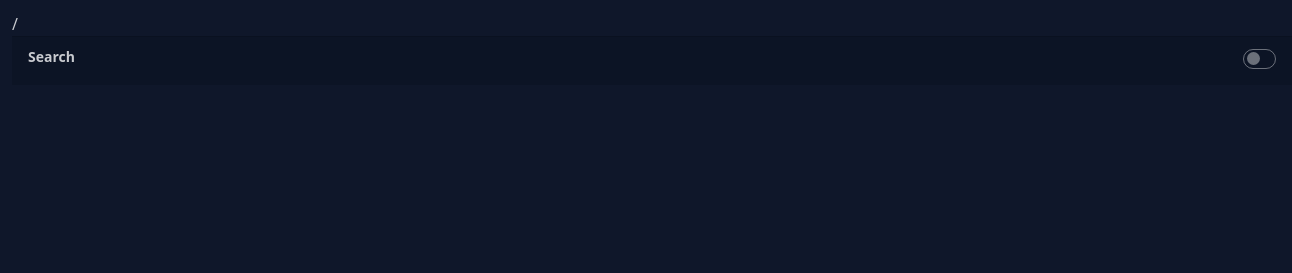
Test: NavSearchSection › runs a command from its new home — nav logs moves the page
Click the checkbox labelled "Search" at (1260, 59), box left=1243, top=49, right=1276, bottom=69
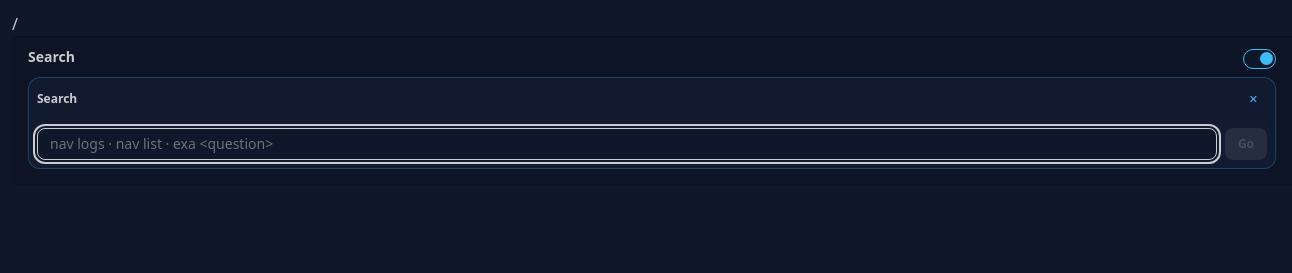
Type "nav logs" into the dropdown named "Search commands" at (627, 144), box left=37, top=128, right=1217, bottom=160
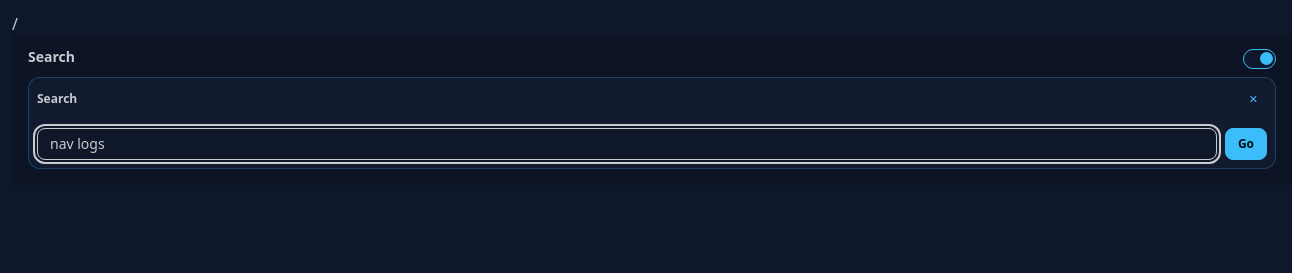
Click the button labelled "Go" at (1246, 144), box left=1225, top=128, right=1267, bottom=160
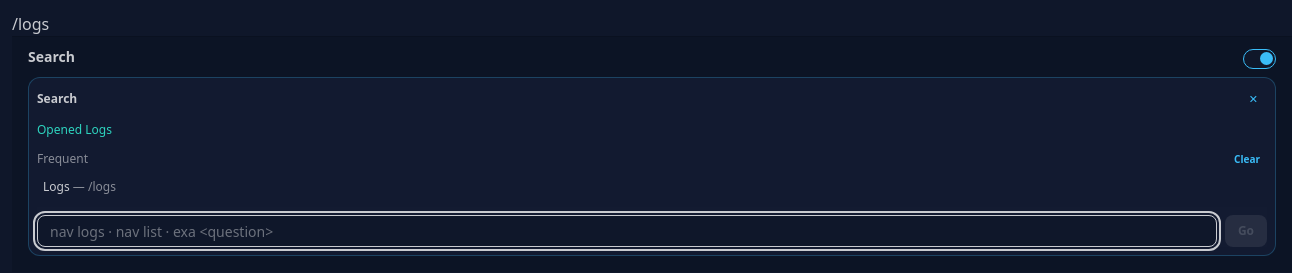
Now the text with test id "loc" reads "/logs", box left=12, top=13, right=49, bottom=35
